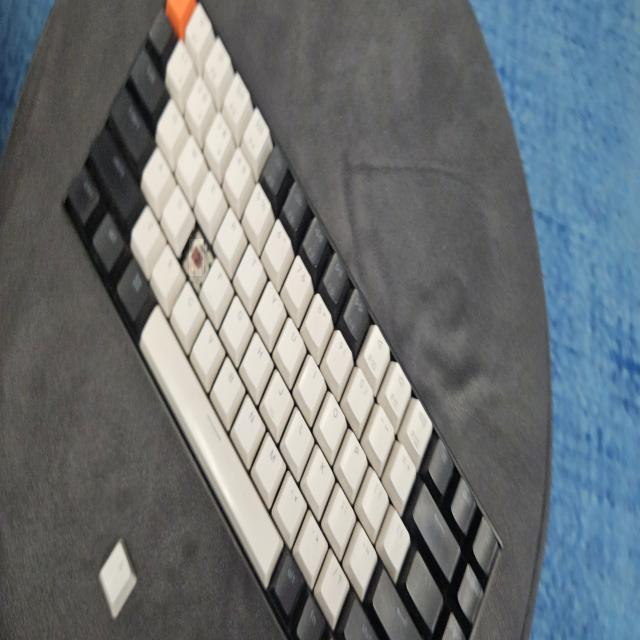C: (189, 239, 204, 276)
